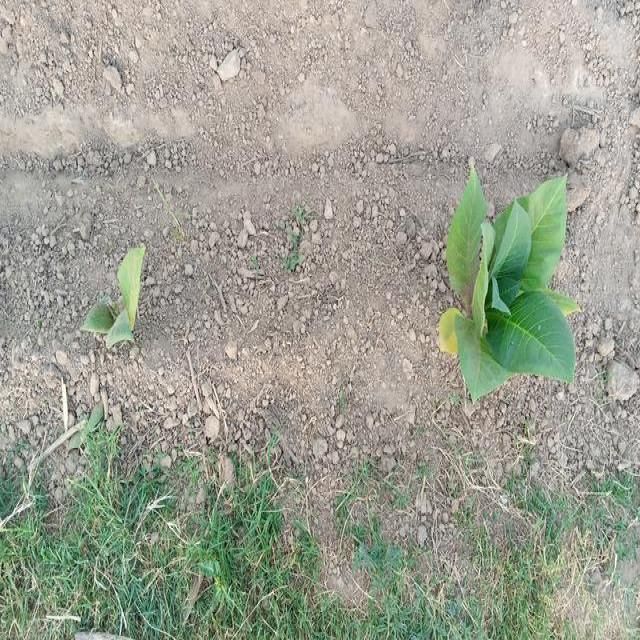crop: (442, 166, 582, 409), (89, 251, 152, 358)
